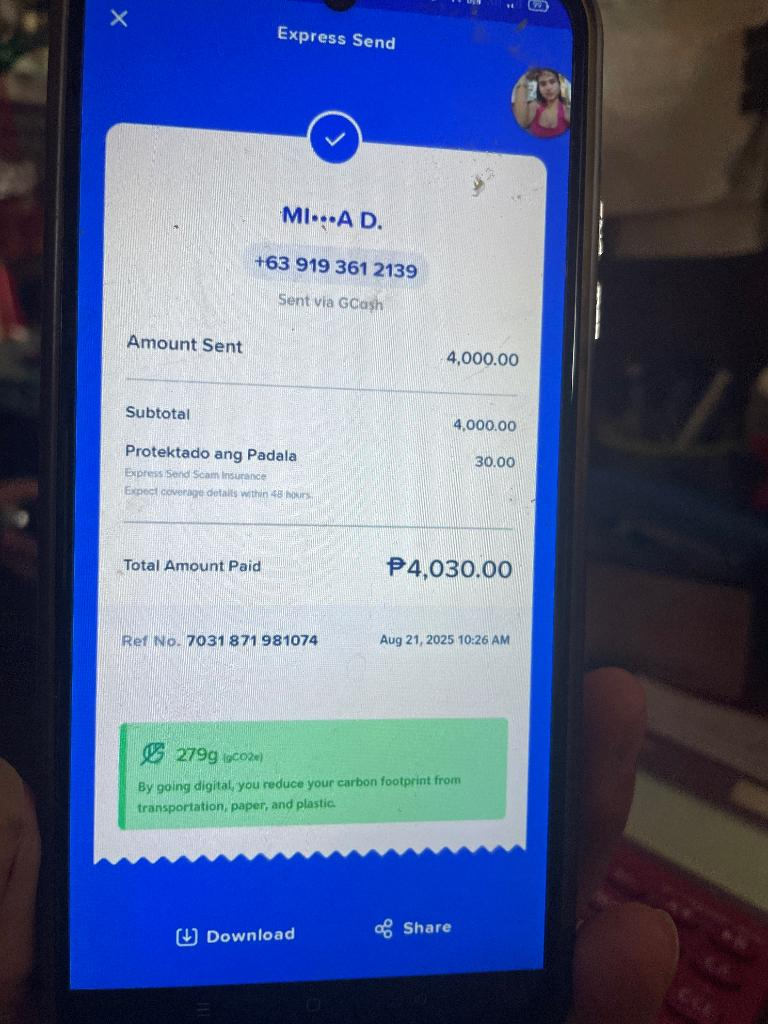Receipt: (87, 102, 558, 978)
